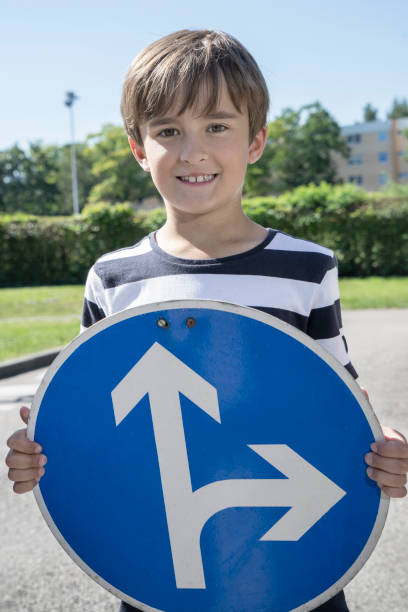ileri_veya_saga: (32, 303, 391, 611)
yaya: (47, 23, 367, 306)
